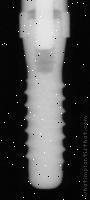Straumann ITI: (19, 0, 71, 189)
